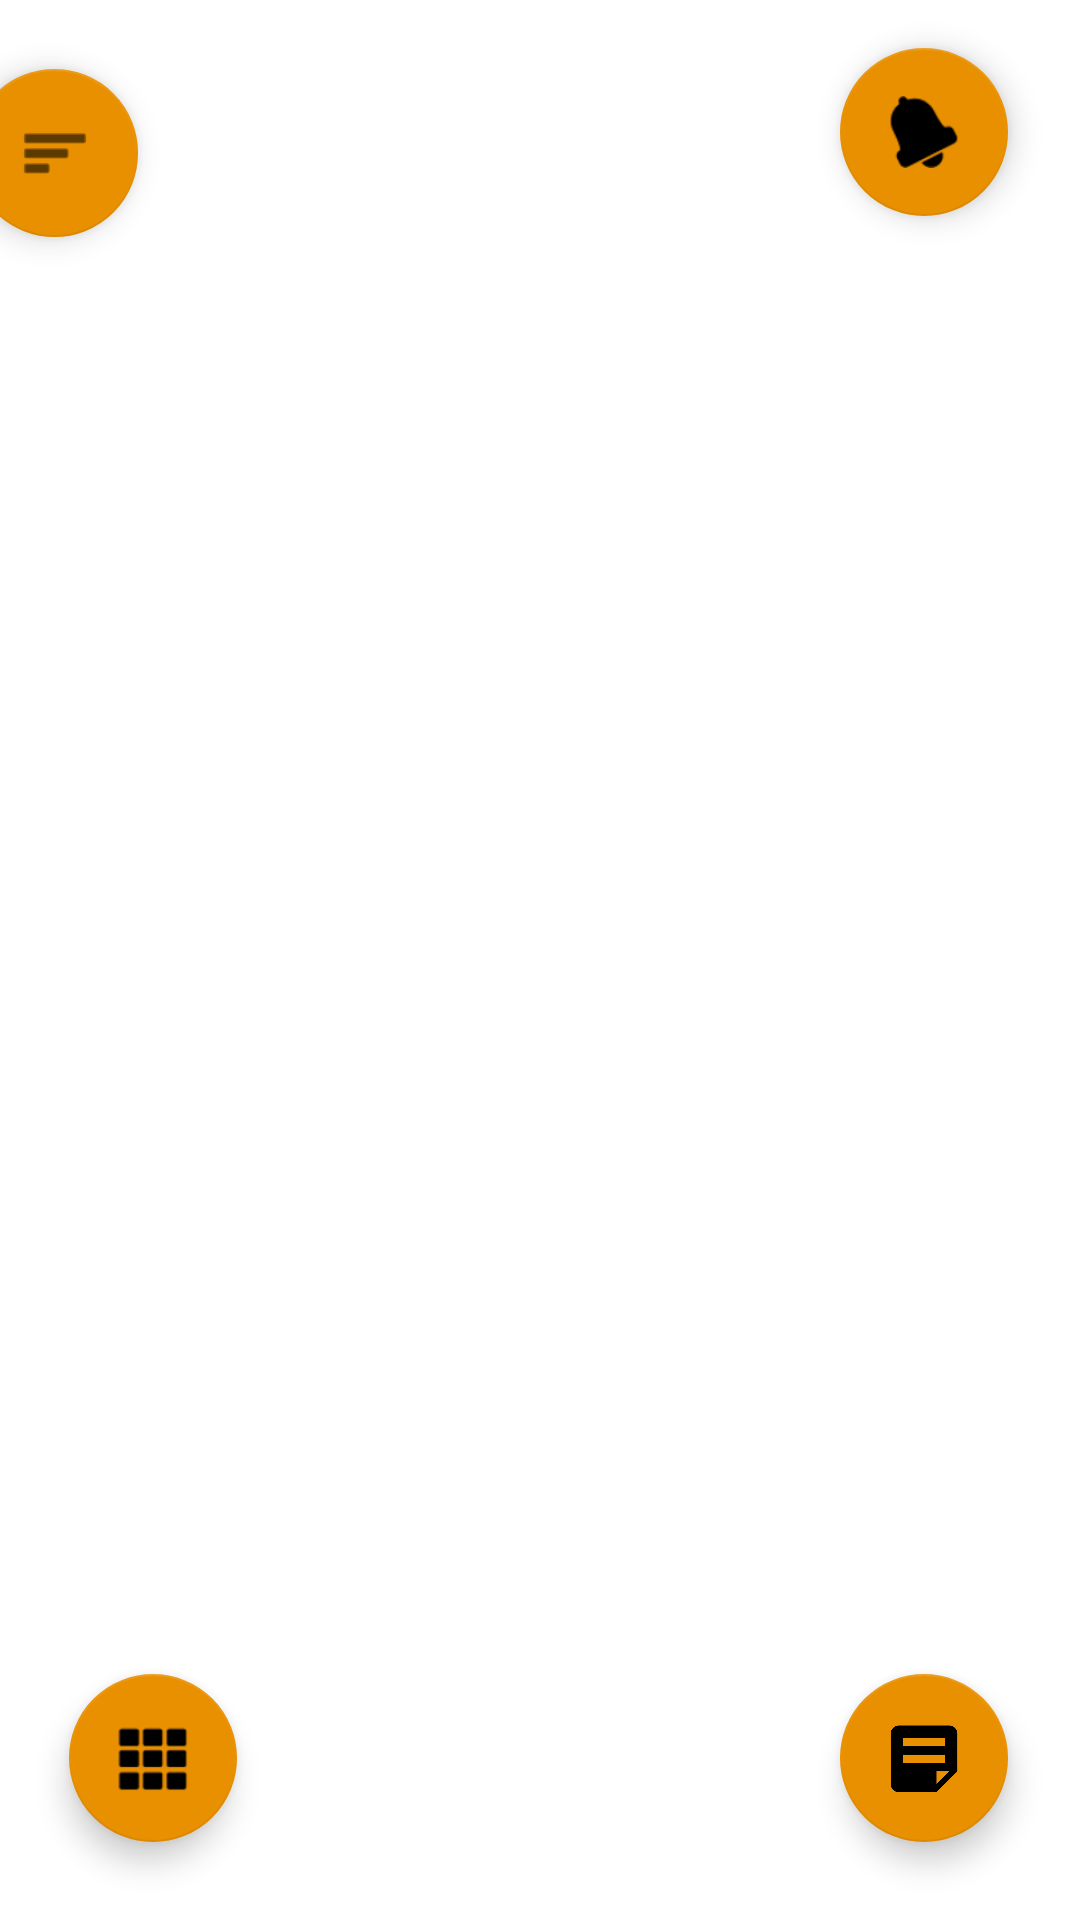

Screen size 1080 × 1920. Icon name, then its box in pixels as region(x1, y1, x2, y2):
dialer: region(69, 1674, 237, 1842)
notesicon: region(840, 1674, 1008, 1842)
popup reminder: region(840, 48, 1008, 216)
